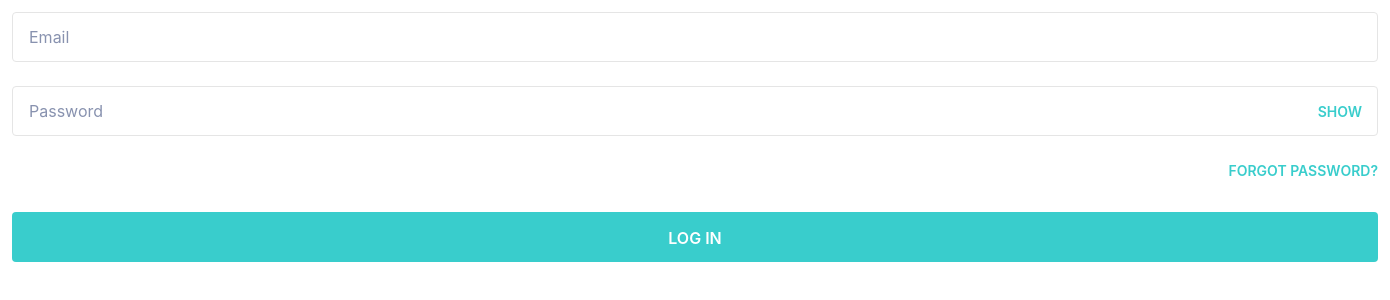
LoginForm › shows error for short password
Type "test@example.com" into the field with test id "email-input" at {"x": 695, "y": 37}, box [12,12,1378,62]
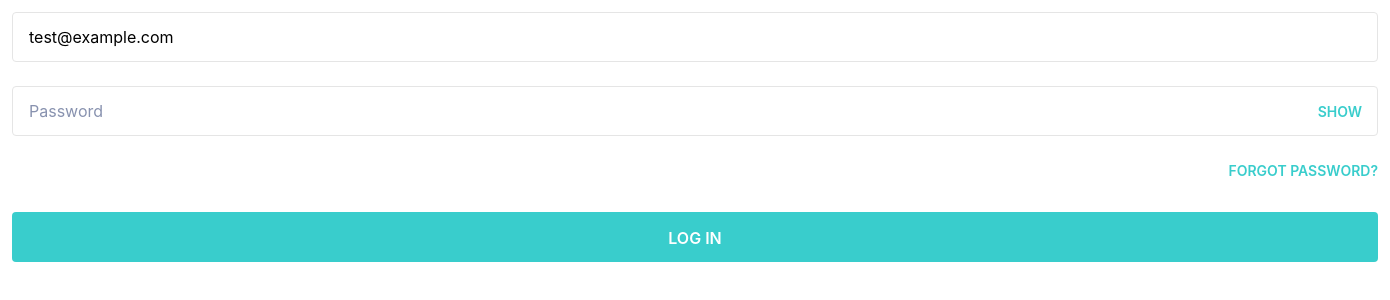
Type "123" into the password field with test id "password-input" at {"x": 695, "y": 111}, box [12,86,1378,136]
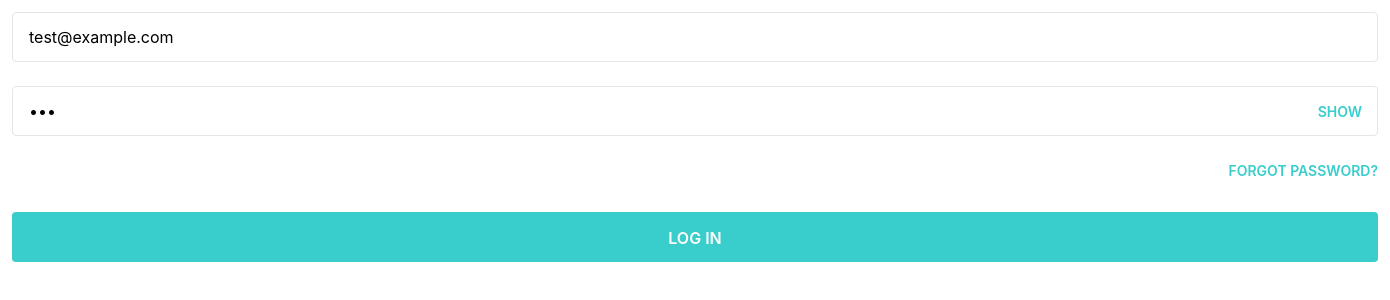
Click the button with test id "login-button" at {"x": 695, "y": 237}, box [12,212,1378,262]
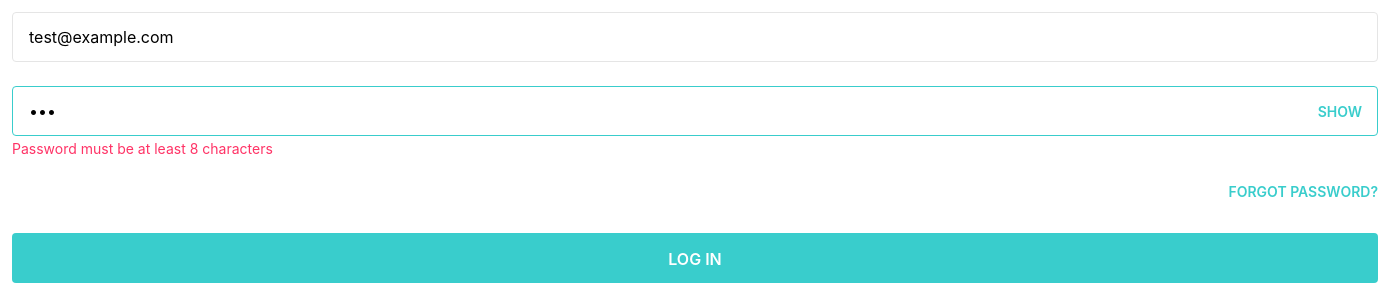
Result: the text with test id "password-error" reads "Password must be at least 8 characters" at [12,140,273,157]
